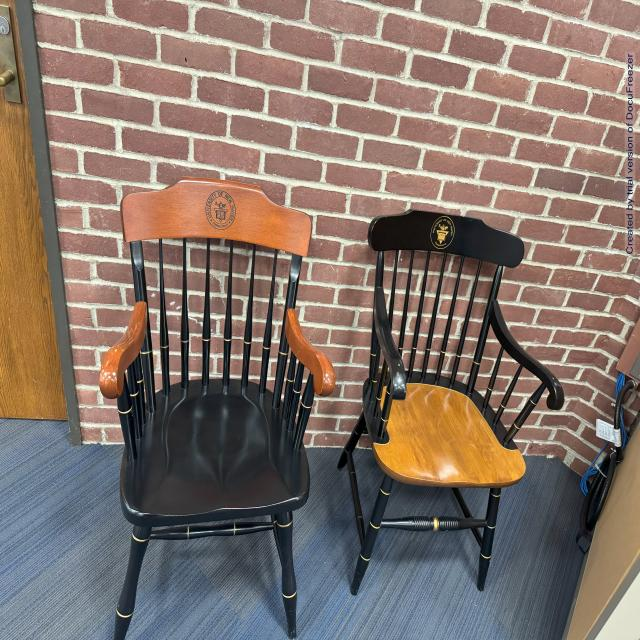chair: (352, 148, 583, 640), (94, 156, 326, 634)
